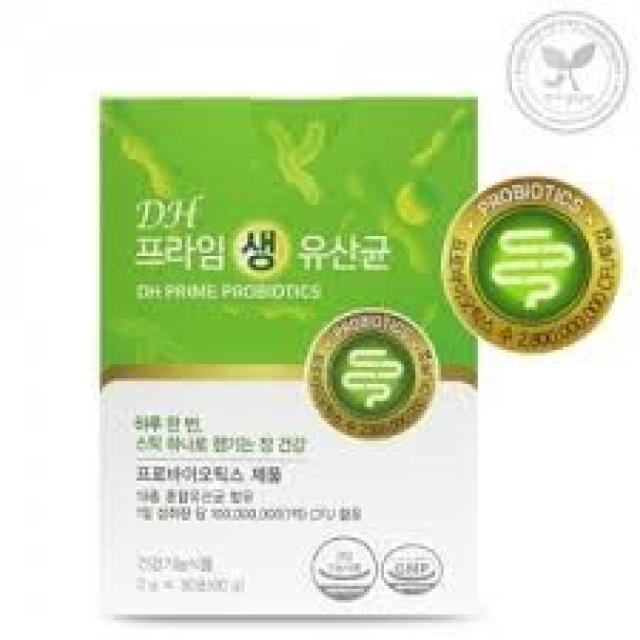GMP: (382, 540, 444, 596)
HEALTHY: (308, 531, 378, 601)
